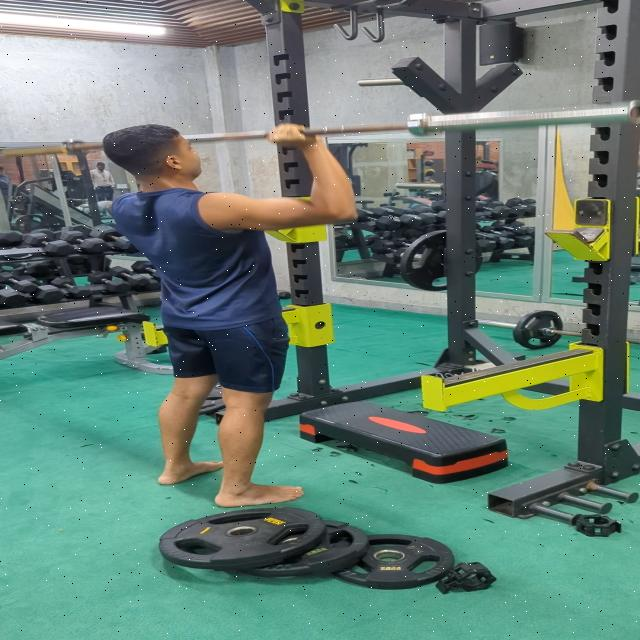Normal_OverheadPress: (83, 96, 370, 512)
